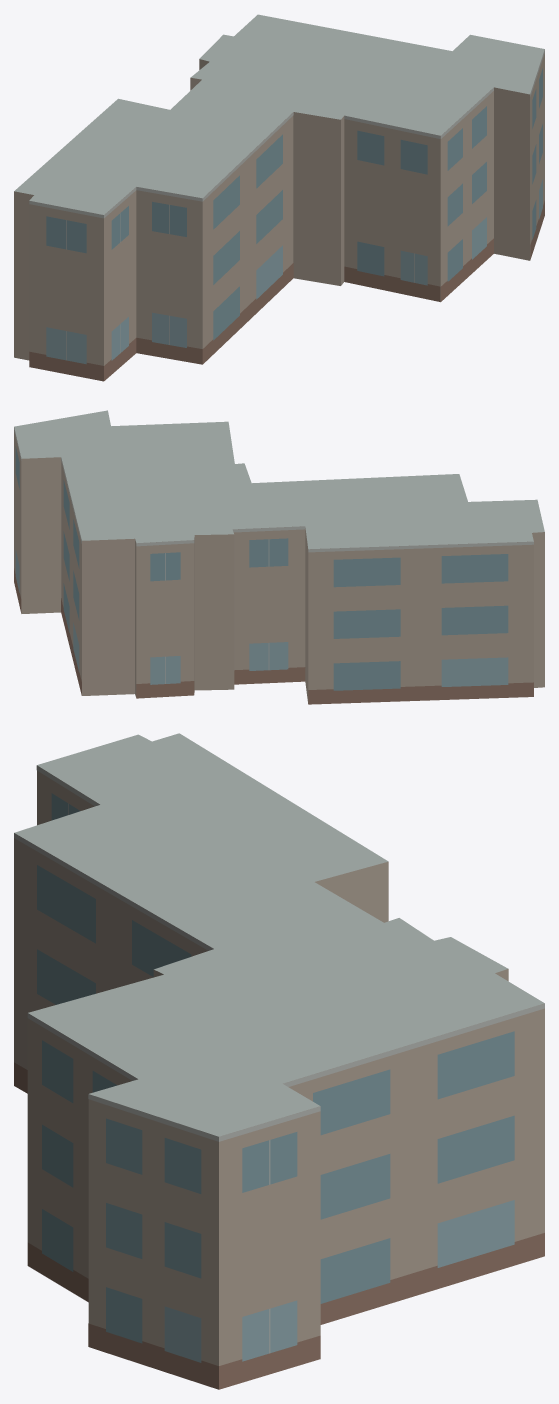
The model's file is survey-upis-32590693.glb.
3 views of the same model, one above another, from view 1: azimuth 30°, elevation 25°; view 2: azimuth 150°, elevation 25°; view 3: azimuth 270°, elevation 25° (orthographic). The views are drawn at different scales.
Visible parts, largest first — view 1: survey-upis-32590693.tmp; view 2: survey-upis-32590693.tmp; view 3: survey-upis-32590693.tmp.
Part boxes in pixels (bbox=[...]): survey-upis-32590693.tmp: bbox=[14, 14, 544, 381]; survey-upis-32590693.tmp: bbox=[14, 410, 544, 704]; survey-upis-32590693.tmp: bbox=[14, 733, 544, 1389].
Size of the model in its own units: 40.71 by 11.9 by 22.64.
